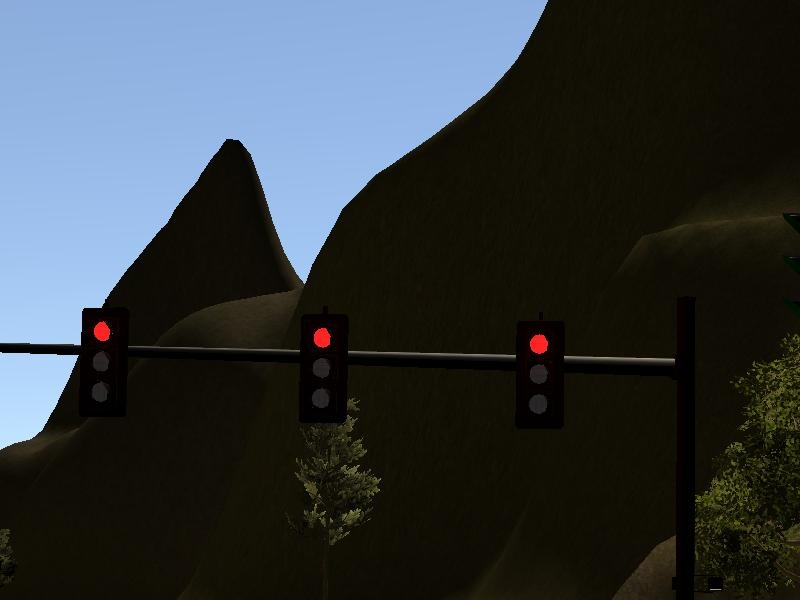RED: (296, 313, 354, 424), (74, 303, 125, 413), (509, 322, 558, 419)
